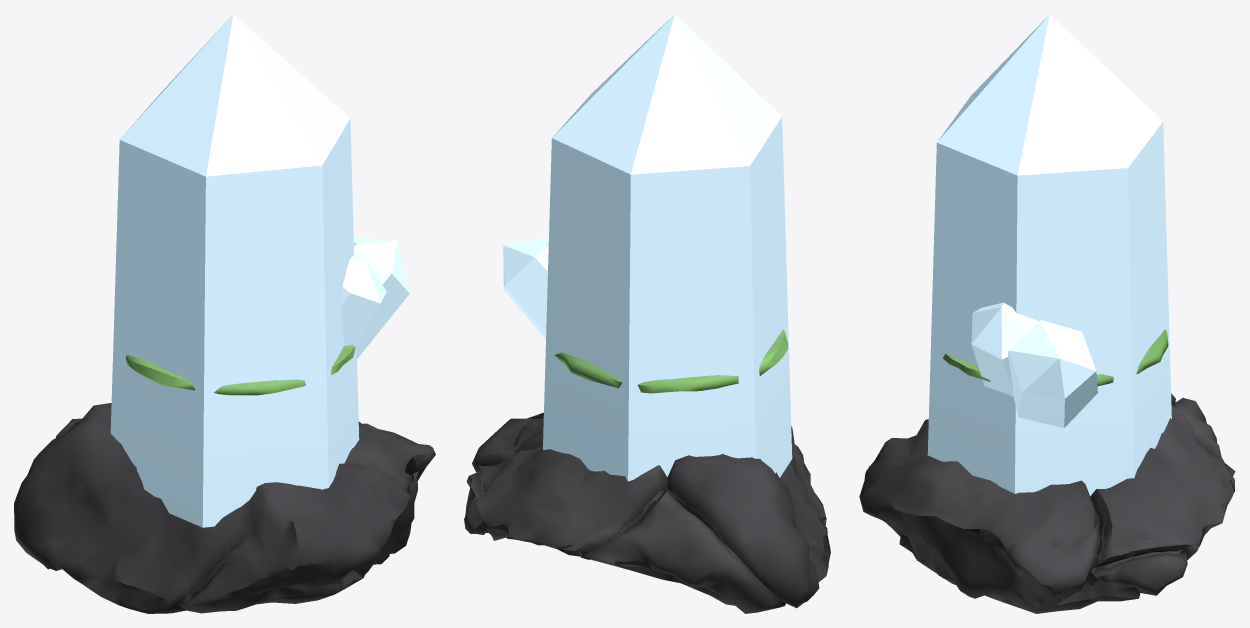
The model's file is cristal_dimensional.fbx.
3 renders of one model, left to right at view 1: azimuth 30°, elevation 25°; view 2: azimuth 150°, elevation 25°; view 3: azimuth 270°, elevation 25°, orthographic. The views are drawn at different scales.
Parts seen in each view (by area): view 1: cristal_dimensional_cristal, cristal_dimensional, cristal_dimensional_interior; view 2: cristal_dimensional_cristal, cristal_dimensional, cristal_dimensional_interior; view 3: cristal_dimensional_cristal, cristal_dimensional, cristal_dimensional_interior.
Boxes of the visible parts, x1=… form: cristal_dimensional_cristal: x1=110, y1=14, x2=409, y2=527; cristal_dimensional: x1=14, y1=403, x2=435, y2=613; cristal_dimensional_interior: x1=125, y1=345, x2=355, y2=395; cristal_dimensional_cristal: x1=503, y1=14, x2=792, y2=481; cristal_dimensional: x1=464, y1=412, x2=830, y2=613; cristal_dimensional_interior: x1=554, y1=329, x2=787, y2=393; cristal_dimensional_cristal: x1=927, y1=14, x2=1171, y2=496; cristal_dimensional: x1=859, y1=393, x2=1235, y2=613; cristal_dimensional_interior: x1=943, y1=329, x2=1168, y2=386.
Bounding box in the file's own units: 3.03 × 4.23 × 2.71.
4 materials, 4 textured.
